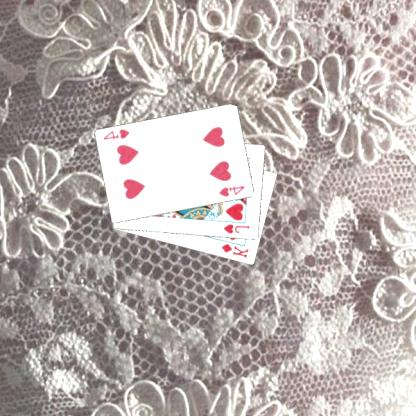4H: (218, 183, 248, 198), (103, 126, 133, 141)
JH: (223, 221, 253, 235)
KD: (220, 241, 252, 259)
